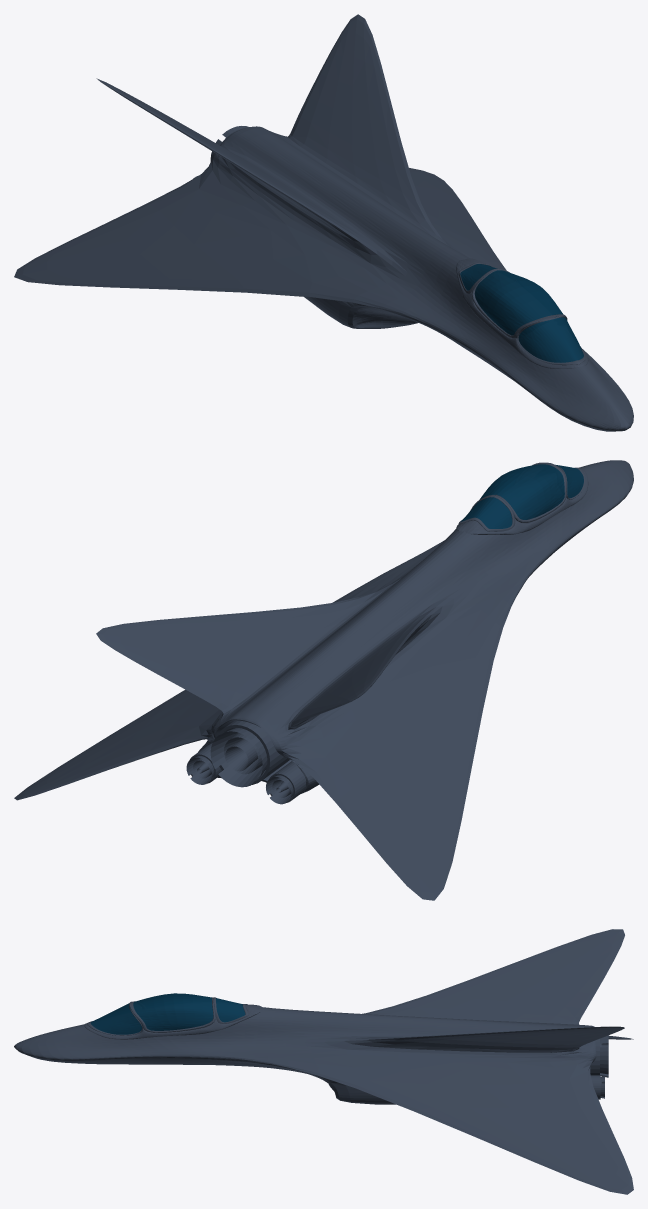
Rendered from siar1x.obj.
3 renders of one model, top to bottom at view 1: azimuth 30°, elevation 25°; view 2: azimuth 150°, elevation 25°; view 3: azimuth 270°, elevation 25°, orthographic. The views are drawn at different scales.
Parts seen in each view (by area): view 1: Cylinder; view 2: Cylinder, Icosphere, Icosphere.002, Icosphere.001; view 3: Cylinder, Icosphere.
Boxes of the visible parts, x1,y1,x2,y2 form: Cylinder: [14, 14, 633, 431]; Cylinder: [14, 460, 633, 900]; Icosphere: [210, 720, 289, 787]; Icosphere.002: [266, 761, 306, 804]; Icosphere.001: [186, 743, 221, 784]; Cylinder: [14, 929, 633, 1194]; Icosphere: [590, 1035, 608, 1077].
Size of the model in its own units: 3.71 by 1.54 by 6.22.
